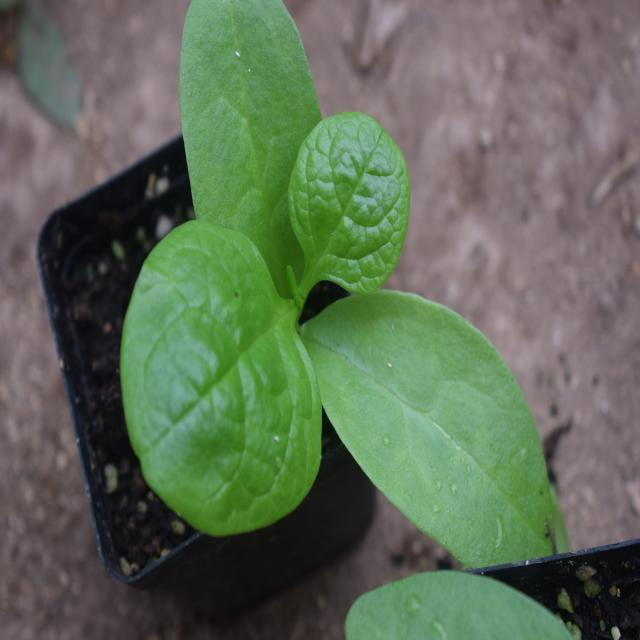Ceylon spinach: (132, 16, 548, 567)
